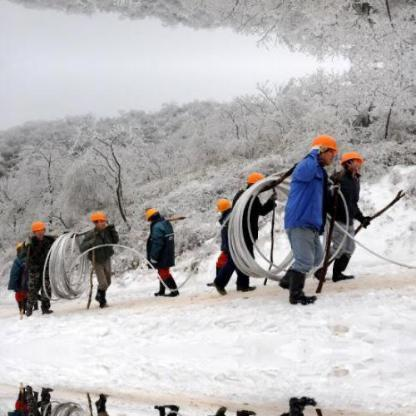helmet: (310, 131, 343, 160), (241, 168, 269, 195), (337, 148, 368, 170), (142, 203, 164, 226), (29, 216, 50, 239), (211, 194, 234, 213), (90, 208, 110, 229)
